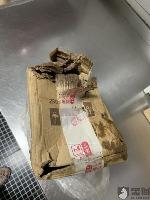damaged package: (31, 49, 97, 90), (30, 151, 73, 181)
undamaged: (23, 44, 132, 185)
